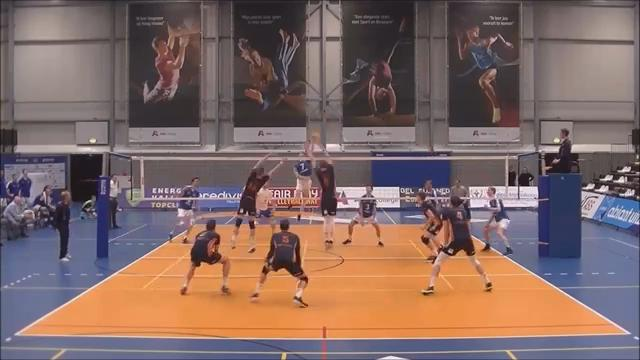attacco: (284, 137, 316, 224)
muro: (229, 151, 286, 253), (302, 138, 340, 249)
